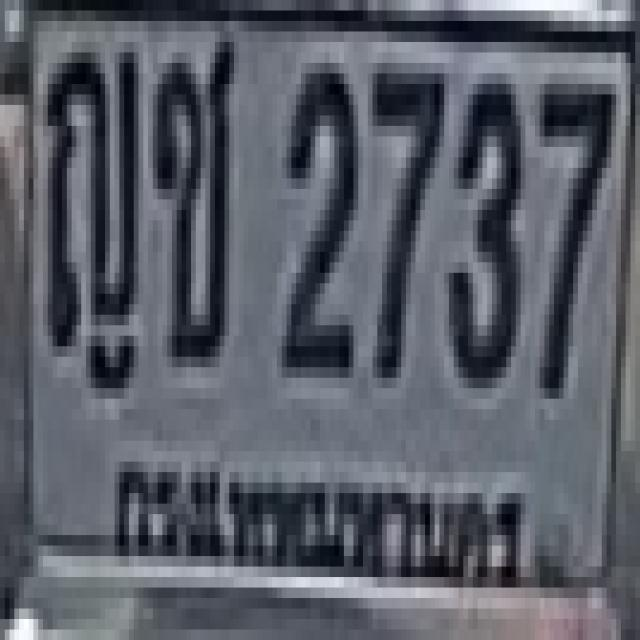2: (277, 58, 353, 362)
3: (444, 73, 521, 378)
7: (535, 74, 611, 388), (368, 58, 439, 372)
A10: (150, 31, 232, 356)
A13: (43, 42, 134, 346)
BKK: (100, 431, 535, 620)
